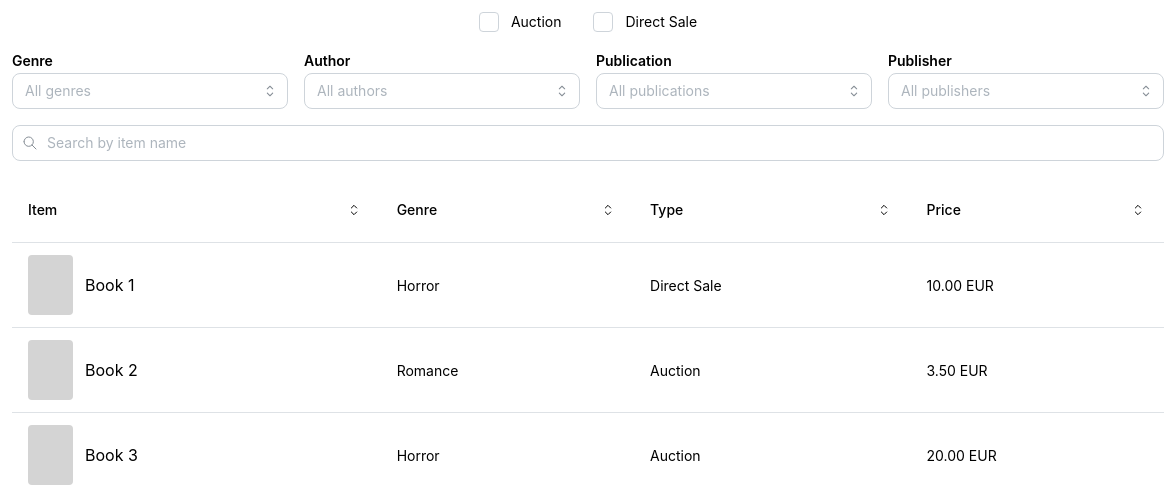
Scenario: MarketPlaceTable › filters items by item name
Type "Book 2" into the field with placeholder "Search by item name" at (588, 143), box top-left (12, 125), bottom-right (1164, 161)
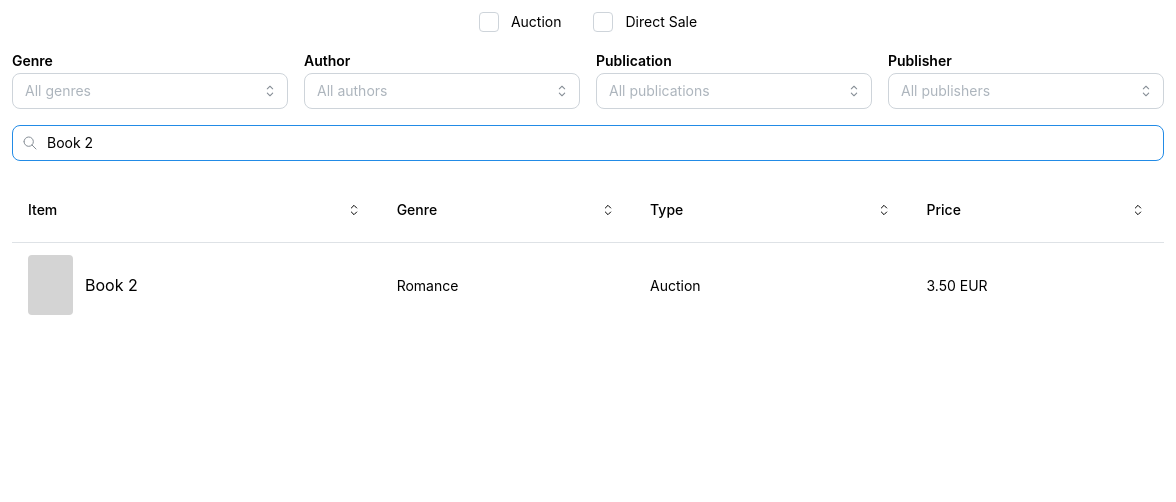
Expected: the text "Book 2" is shown, top-left (85, 273), bottom-right (138, 298)
Expected: the text "Book 1" is gone
Expected: the text "Book 3" is gone
